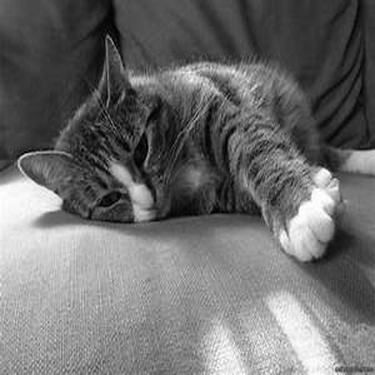cat: (17, 33, 372, 264)
